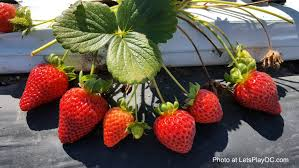ripe: (56, 84, 108, 146), (18, 59, 66, 111), (233, 71, 285, 118), (154, 105, 200, 155), (186, 87, 225, 122), (1, 4, 20, 34)
unripe: (104, 105, 135, 149)
